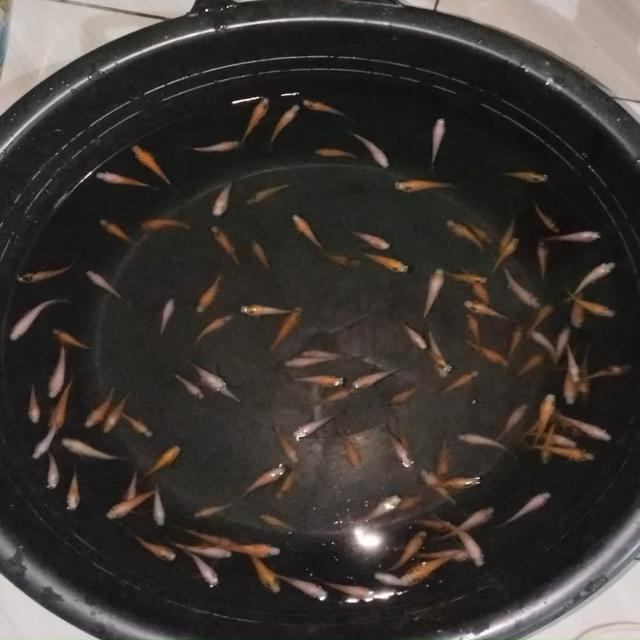nila: (10, 294, 70, 340), (240, 535, 278, 596), (130, 144, 179, 190), (56, 432, 128, 463), (106, 483, 164, 521), (438, 504, 496, 541), (502, 488, 553, 530), (443, 516, 487, 564), (400, 550, 460, 585), (569, 259, 617, 301), (268, 569, 328, 602), (186, 546, 228, 592), (264, 304, 304, 352), (503, 262, 540, 312), (237, 94, 273, 144), (14, 257, 80, 284), (271, 456, 310, 501), (265, 102, 301, 150), (332, 425, 368, 472), (352, 246, 410, 275), (142, 442, 182, 484), (209, 224, 247, 268), (84, 270, 130, 306), (351, 130, 390, 172), (352, 494, 400, 528), (315, 574, 377, 600), (44, 338, 70, 399), (557, 294, 623, 318), (240, 467, 288, 500), (82, 384, 118, 428), (578, 358, 634, 386), (516, 407, 562, 441), (418, 470, 461, 506), (456, 340, 511, 368), (131, 532, 182, 562), (290, 214, 330, 252), (446, 220, 486, 258), (462, 262, 495, 308), (99, 390, 132, 436), (242, 180, 296, 208), (46, 376, 72, 434), (164, 536, 232, 558), (528, 442, 599, 463), (394, 418, 418, 480), (206, 539, 292, 556), (29, 414, 60, 461), (374, 489, 424, 518), (457, 431, 520, 454), (529, 390, 559, 438), (486, 236, 520, 278), (559, 414, 611, 441), (391, 530, 426, 570), (91, 168, 154, 190), (461, 297, 516, 322), (522, 300, 558, 338), (270, 424, 304, 464), (352, 364, 404, 390), (203, 376, 248, 406), (420, 260, 444, 316), (182, 527, 240, 550), (189, 360, 229, 392), (114, 408, 156, 438), (194, 311, 235, 341), (520, 430, 580, 450), (496, 402, 526, 442), (384, 378, 432, 403), (438, 369, 480, 397), (384, 425, 412, 467), (194, 273, 222, 315), (52, 327, 99, 352), (99, 216, 138, 246), (146, 480, 168, 533), (460, 308, 484, 356), (154, 294, 179, 340), (302, 96, 354, 118), (308, 247, 362, 268), (291, 414, 336, 439), (529, 203, 563, 236), (426, 116, 446, 172), (347, 230, 393, 254), (425, 328, 447, 378), (212, 176, 238, 218), (525, 324, 561, 354), (374, 569, 419, 593), (427, 474, 480, 494), (510, 350, 545, 380), (182, 138, 246, 154), (388, 178, 461, 192), (546, 228, 606, 245), (422, 544, 482, 561), (248, 237, 276, 273), (314, 386, 361, 407), (237, 303, 306, 317), (397, 320, 429, 350), (568, 282, 588, 329), (42, 445, 62, 492), (464, 215, 492, 248), (257, 512, 299, 534), (175, 374, 205, 404), (138, 216, 194, 232), (502, 322, 524, 362), (563, 348, 578, 406), (561, 336, 579, 384), (502, 167, 552, 184), (283, 374, 348, 387), (552, 322, 571, 366), (436, 428, 452, 479), (580, 340, 593, 402), (498, 214, 518, 253), (282, 355, 334, 370), (421, 348, 453, 372), (308, 146, 359, 161), (66, 464, 82, 511), (298, 348, 360, 360), (549, 413, 581, 436), (436, 270, 488, 284), (411, 516, 456, 532), (190, 502, 230, 520), (539, 422, 556, 464), (26, 382, 42, 426), (125, 468, 141, 508), (536, 238, 550, 282)
